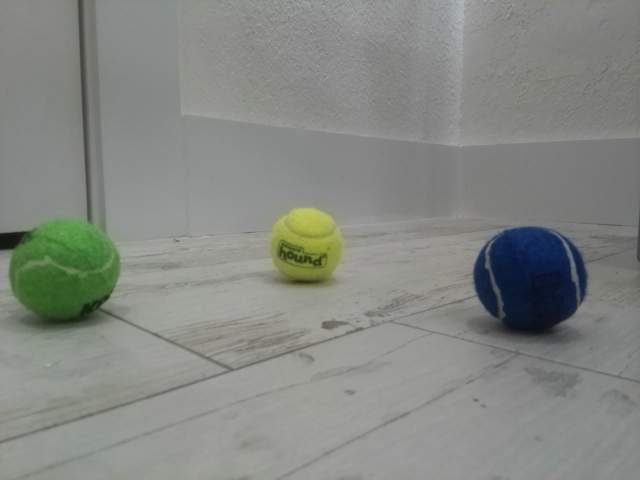blue-ball: (473, 224, 588, 332)
green-ball: (8, 217, 121, 322)
yellow-ball: (269, 206, 343, 284)
